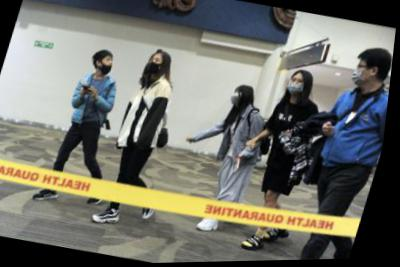OK: (352, 61, 373, 88), (148, 57, 166, 75), (232, 89, 246, 107)
WRONG: (287, 75, 310, 99), (101, 56, 116, 77)
